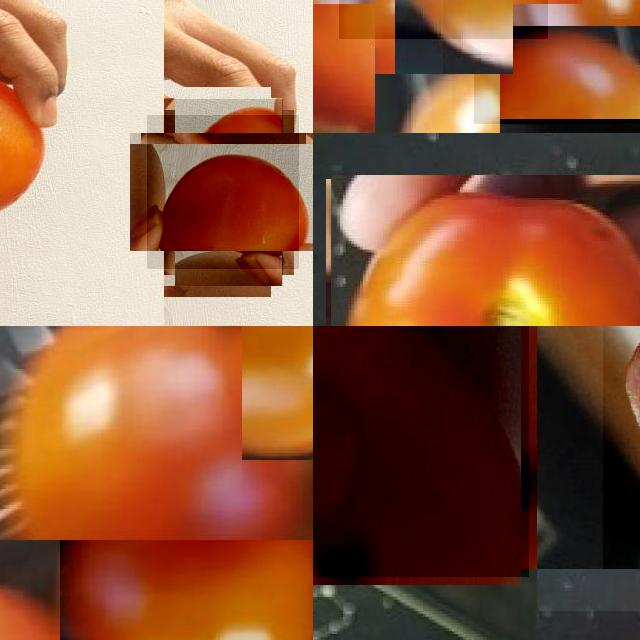Fresh Tomato: (0, 326, 310, 540), (328, 177, 640, 326), (60, 540, 313, 640), (147, 115, 299, 269), (473, 0, 640, 124), (313, 0, 452, 133), (242, 326, 313, 460), (339, 0, 548, 39)
Rotten Tomato: (313, 326, 529, 577)
